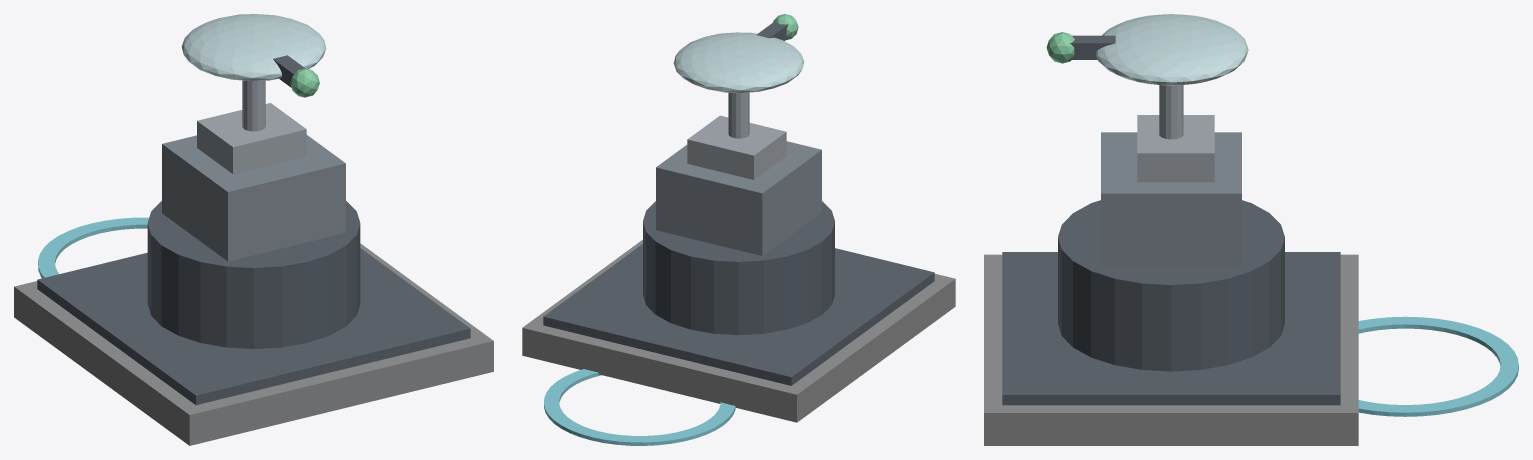
The model's file is human_radar_turret.glb.
3 views of the same model, side by side, from view 1: azimuth 30°, elevation 25°; view 2: azimuth 150°, elevation 25°; view 3: azimuth 270°, elevation 25° (orthographic). The views are drawn at different scales.
Visible parts, largest first — view 1: foundation_top, sensor_base, foundation, sensor_housing, rotating_dish, dish_mount, radar_scan_pulse, radar_mast, dish_receiver, dish_feed_arm; view 2: foundation_top, sensor_base, foundation, sensor_housing, rotating_dish, dish_mount, radar_scan_pulse, radar_mast; view 3: foundation_top, sensor_base, foundation, sensor_housing, rotating_dish, dish_mount, radar_scan_pulse, radar_mast, dish_feed_arm, dish_receiver.
Part boxes in pixels (<box>): foundation_top: <box>37,248,470,405</box>; sensor_base: <box>147,201,360,348</box>; foundation: <box>14,243,493,445</box>; sensor_housing: <box>162,135,345,261</box>; rotating_dish: <box>181,14,326,80</box>; dish_mount: <box>197,103,306,174</box>; radar_scan_pulse: <box>38,217,148,278</box>; radar_mast: <box>242,80,265,131</box>; dish_receiver: <box>290,68,319,97</box>; dish_feed_arm: <box>273,55,304,87</box>; foundation_top: <box>543,244,934,385</box>; sensor_base: <box>643,201,834,335</box>; foundation: <box>522,239,955,422</box>; sensor_housing: <box>656,141,821,255</box>; rotating_dish: <box>673,32,804,92</box>; dish_mount: <box>687,115,786,179</box>; radar_scan_pulse: <box>544,369,735,445</box>; radar_mast: <box>728,92,749,138</box>; foundation_top: <box>1002,252,1340,405</box>; sensor_base: <box>1058,200,1284,371</box>; foundation: <box>984,254,1358,445</box>; sensor_housing: <box>1101,132,1241,267</box>; rotating_dish: <box>1096,14,1248,85</box>; dish_mount: <box>1137,115,1214,182</box>; radar_scan_pulse: <box>1358,316,1518,416</box>; radar_mast: <box>1159,85,1183,139</box>; dish_feed_arm: <box>1070,35,1115,59</box>; dish_receiver: <box>1046,32,1074,63</box>.
Bounding box in the file's own units: 1.65 × 1.63 × 2.35.
